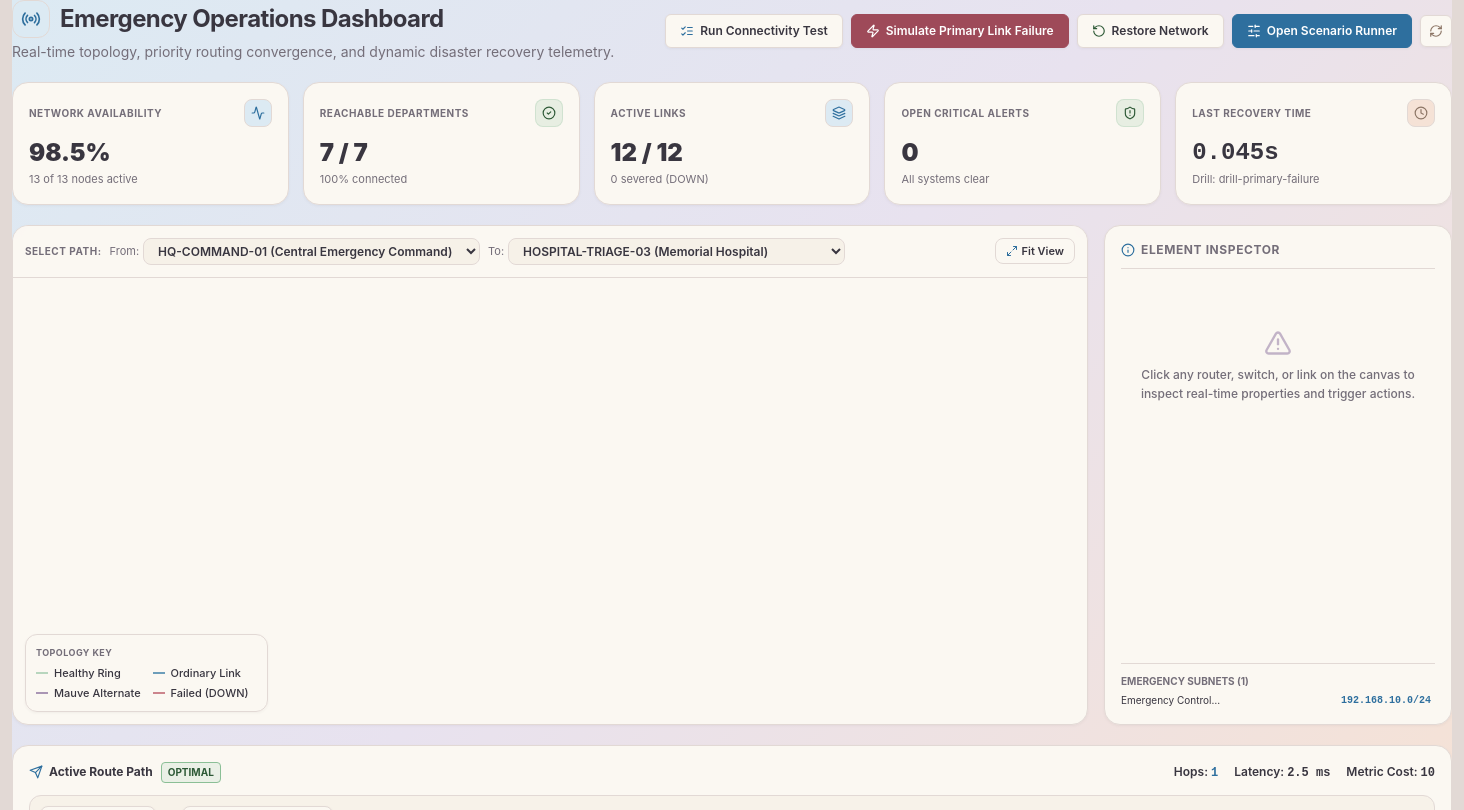
Test: DashboardPage › handles "Run Connectivity Test" action button click
Click the button "Run Connectivity Test" at [754, 31], box [665,14,843,48]
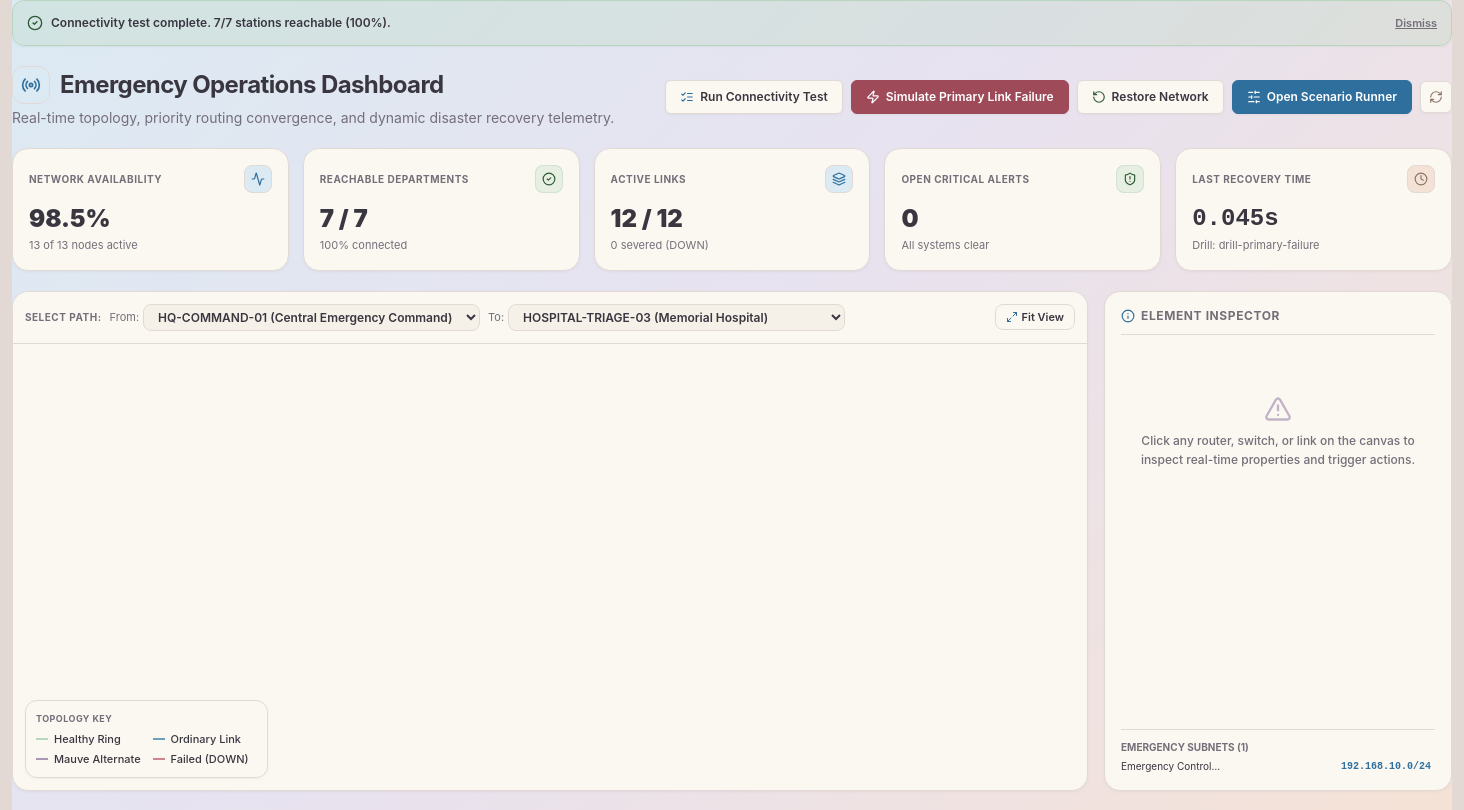
Expected: the text "Connectivity test complete. 7/7 stations reachable (100%)." is shown, [51,15,391,31]
